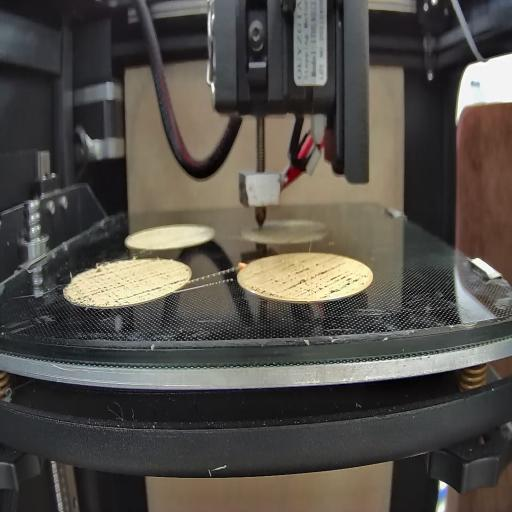under_extrusion: (64, 264, 187, 300), (250, 262, 369, 298)
